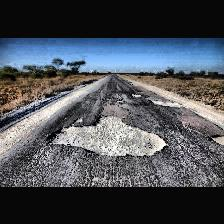pothole: (46, 114, 168, 156), (151, 97, 181, 107), (208, 132, 224, 144), (73, 116, 83, 122), (130, 92, 140, 96)
